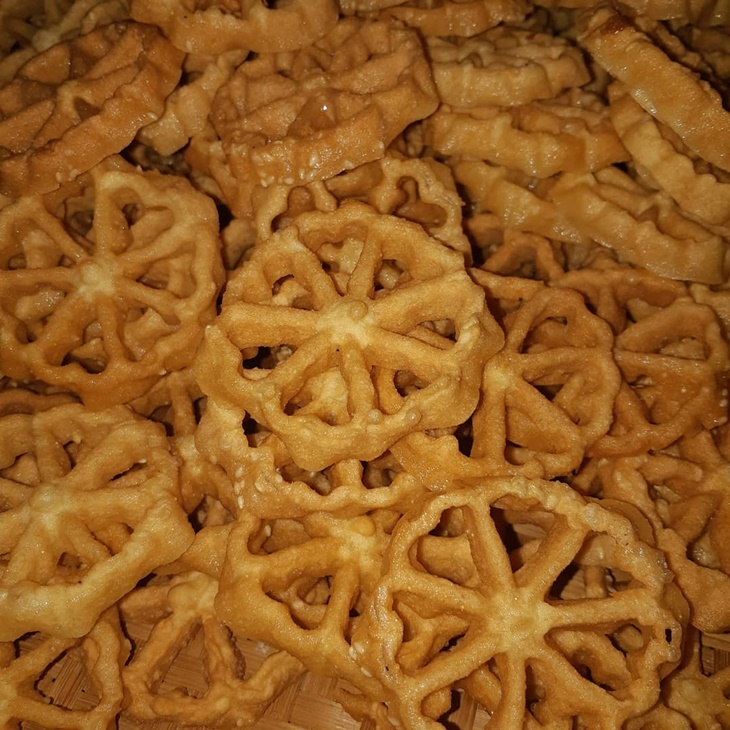kembang_goyang: (364, 474, 705, 730), (203, 211, 503, 457)
